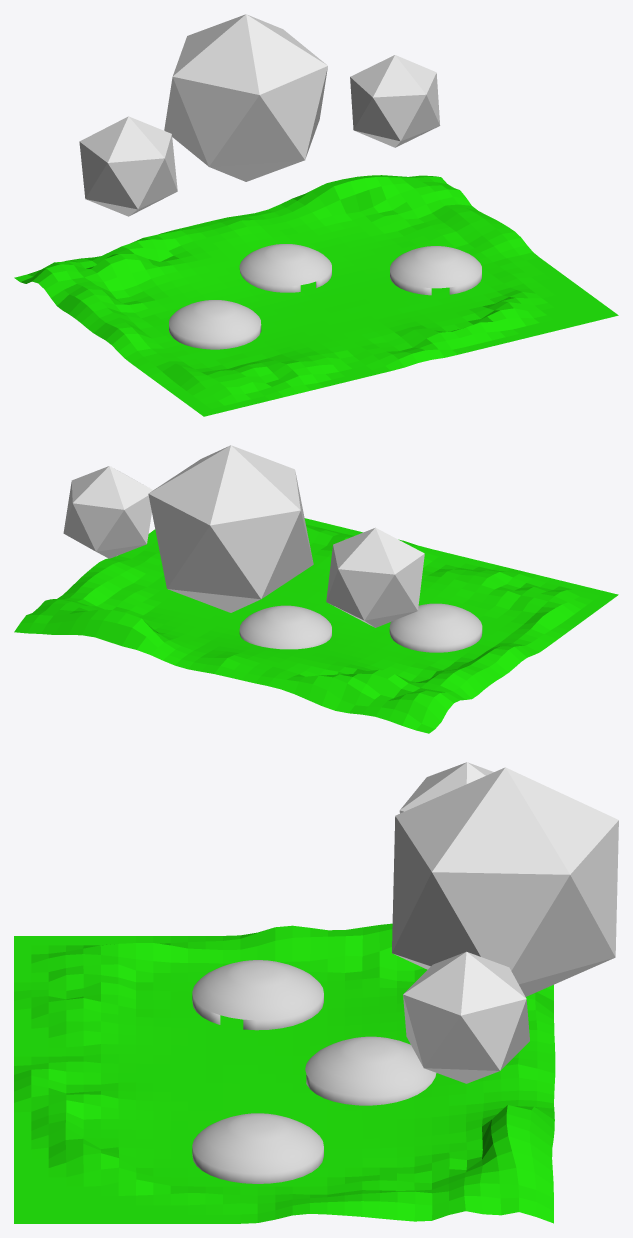
Rendered from domeglass.glb.
3 views of the same model, one above another, from view 1: azimuth 30°, elevation 25°; view 2: azimuth 150°, elevation 25°; view 3: azimuth 270°, elevation 25° (orthographic). The views are drawn at different scales.
Parts seen in each view (by area): view 1: floor, Icosphere.002, Icosphere.003, Icosphere.004, walls.001, walls.002, walls.003; view 2: floor, Icosphere.002, Icosphere.003, Icosphere.004, walls.001, walls.003; view 3: floor, Icosphere.002, Icosphere.004, walls.002, walls.001, walls.003, Icosphere.003.
Boxes of the visible parts, x1=… form: floor: x1=14, y1=175, x2=618, y2=416; Icosphere.002: x1=164, y1=14, x2=327, y2=181; Icosphere.003: x1=79, y1=116, x2=177, y2=216; Icosphere.004: x1=350, y1=55, x2=440, y2=147; walls.001: x1=169, y1=300, x2=261, y2=349; walls.002: x1=390, y1=246, x2=481, y2=295; walls.003: x1=239, y1=244, x2=331, y2=292; floor: x1=14, y1=518, x2=618, y2=733; Icosphere.002: x1=148, y1=445, x2=313, y2=612; Icosphere.003: x1=326, y1=527, x2=424, y2=627; Icosphere.004: x1=63, y1=466, x2=152, y2=558; walls.001: x1=389, y1=603, x2=482, y2=652; walls.003: x1=239, y1=605, x2=331, y2=649; floor: x1=14, y1=923, x2=555, y2=1223; Icosphere.002: x1=392, y1=767, x2=618, y2=996; Icosphere.004: x1=403, y1=951, x2=529, y2=1083; walls.002: x1=192, y1=1113, x2=323, y2=1183; walls.001: x1=192, y1=960, x2=323, y2=1030; walls.003: x1=305, y1=1036, x2=436, y2=1105; Icosphere.003: x1=399, y1=762, x2=493, y2=813.
Bounding box in the file's own units: 917 × 471 × 812.
